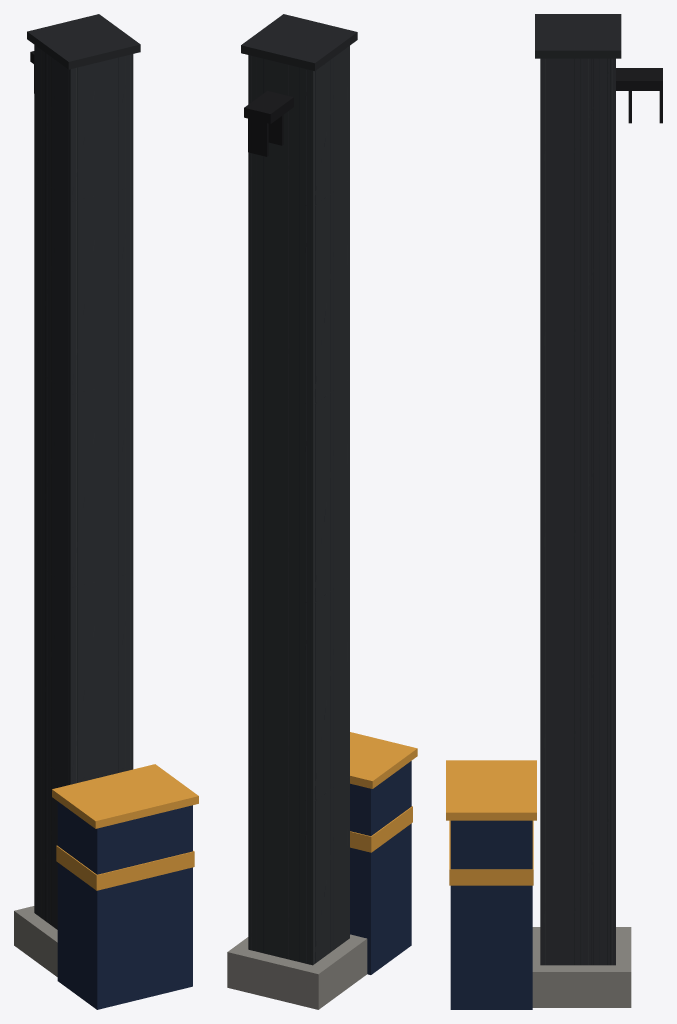
File: MinidoracatKnoxPass_slidemotor2_G.glb
3 renders of one model, left to right at view 1: azimuth 30°, elevation 25°; view 2: azimuth 150°, elevation 25°; view 3: azimuth 270°, elevation 25°, orthographic. The views are drawn at different scales.
Parts seen in each view (by area): view 1: MinidoracatKnoxPass_slidemotor2_G; view 2: MinidoracatKnoxPass_slidemotor2_G; view 3: MinidoracatKnoxPass_slidemotor2_G.
Part boxes in pixels (box(x1,y1,x2,y2)): MinidoracatKnoxPass_slidemotor2_G: box(14, 14, 198, 1009); MinidoracatKnoxPass_slidemotor2_G: box(227, 14, 417, 1009); MinidoracatKnoxPass_slidemotor2_G: box(446, 14, 662, 1009).
Size of the model in its own units: 0.56 by 4.74 by 0.977.
Materials: 1 (1 with a texture image).
